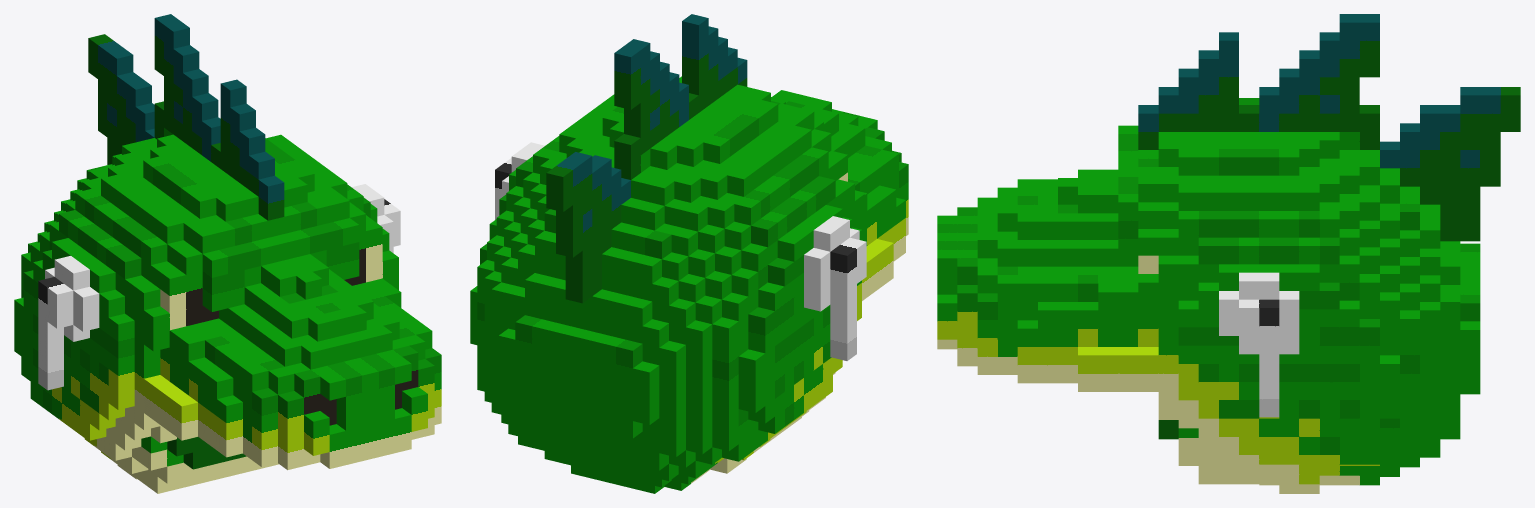
The model's file is airpods.gltf.
The picture shows the model from 3 angles, left to right: view 1: azimuth 30°, elevation 25°; view 2: azimuth 150°, elevation 25°; view 3: azimuth 270°, elevation 25°; orthographic projection. The views are drawn at different scales.
Visible parts, largest first — view 1: 20_Zilla_Head_AirPods-Mesh; view 2: 20_Zilla_Head_AirPods-Mesh; view 3: 20_Zilla_Head_AirPods-Mesh.
Boxes of the visible parts, x1,y1,x2,y2 form: 20_Zilla_Head_AirPods-Mesh: (14,14,441,493); 20_Zilla_Head_AirPods-Mesh: (470,14,908,493); 20_Zilla_Head_AirPods-Mesh: (937,14,1520,493).
Size of the model in its own units: 21 by 24 by 29.
1 material, 1 textured.
